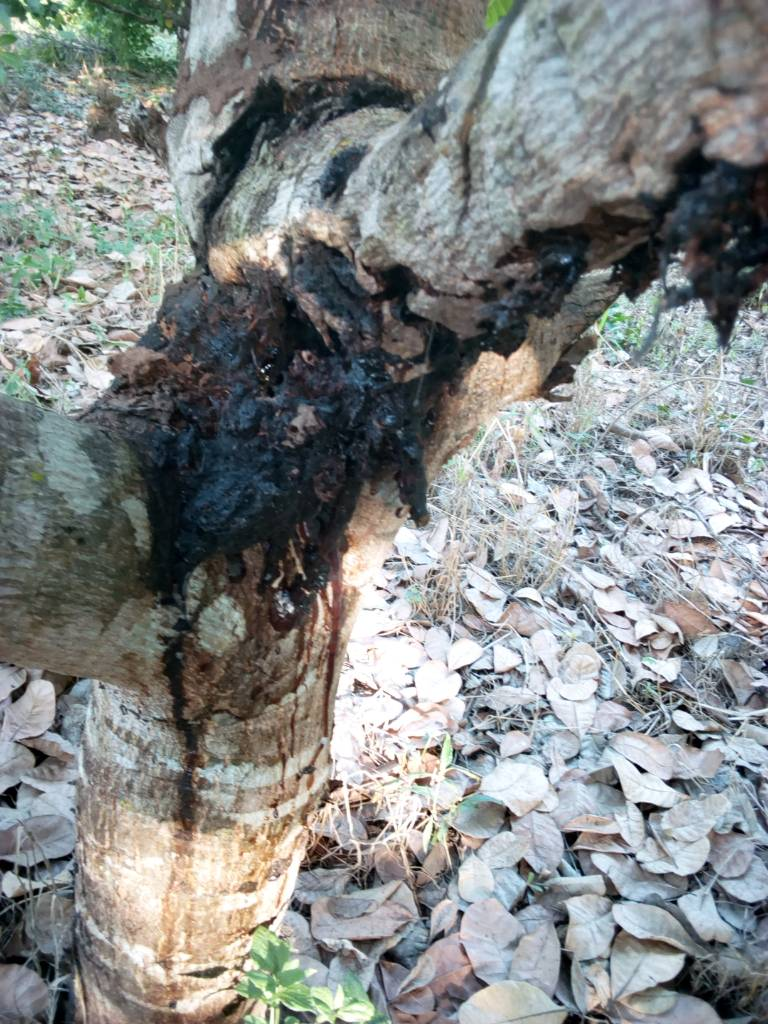ploceadorus ferrugineus: (127, 210, 525, 657)
